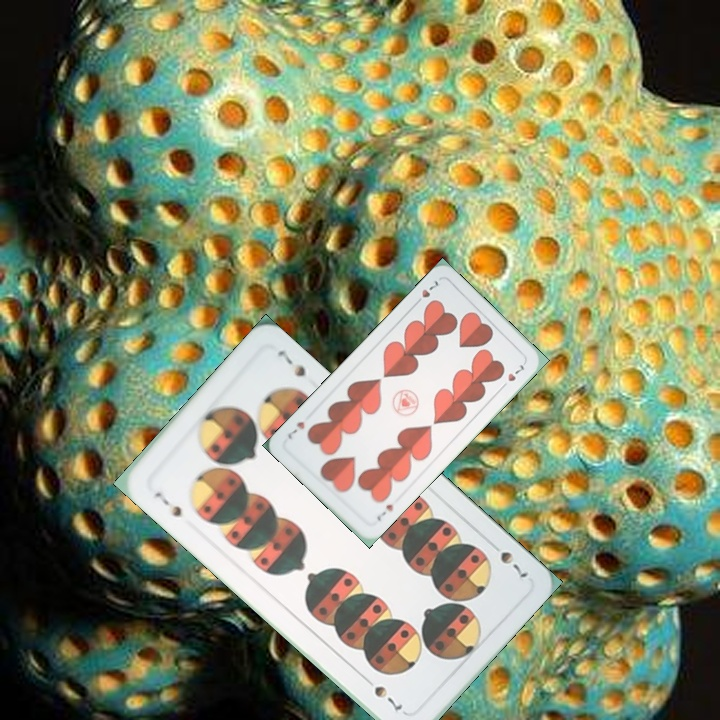H7: (410, 276, 441, 308), (373, 500, 396, 524)
S7: (484, 536, 532, 581), (150, 487, 185, 520)
